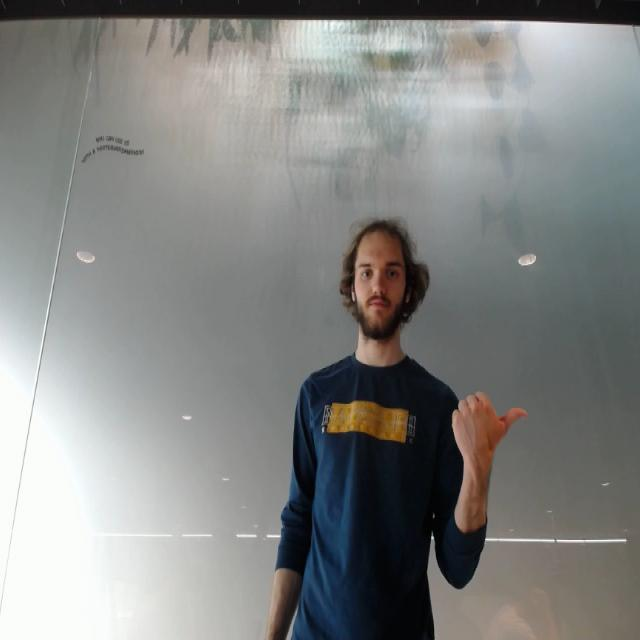right: (446, 388, 534, 466)
